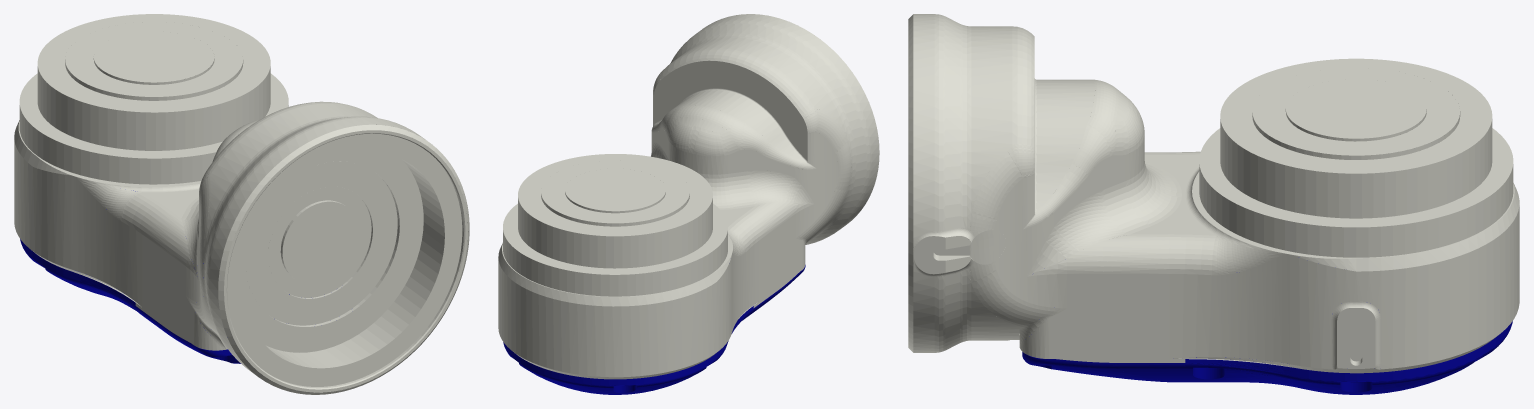
3 renders of one model, left to right at view 1: azimuth 30°, elevation 25°; view 2: azimuth 150°, elevation 25°; view 3: azimuth 270°, elevation 25°, orthographic. The views are drawn at different scales.
Visible parts, largest first — view 1: Base, Cover; view 2: Base, Cover; view 3: Base, Cover.
Boxes of the visible parts, x1,y1,x2,y2 form: Base: (14, 14, 469, 394); Cover: (20, 190, 289, 363); Base: (498, 14, 879, 379); Cover: (503, 265, 805, 394); Base: (908, 14, 1519, 373); Cover: (1022, 321, 1512, 394).
Size of the model in its own units: 0.137 by 0.247 by 0.153.
